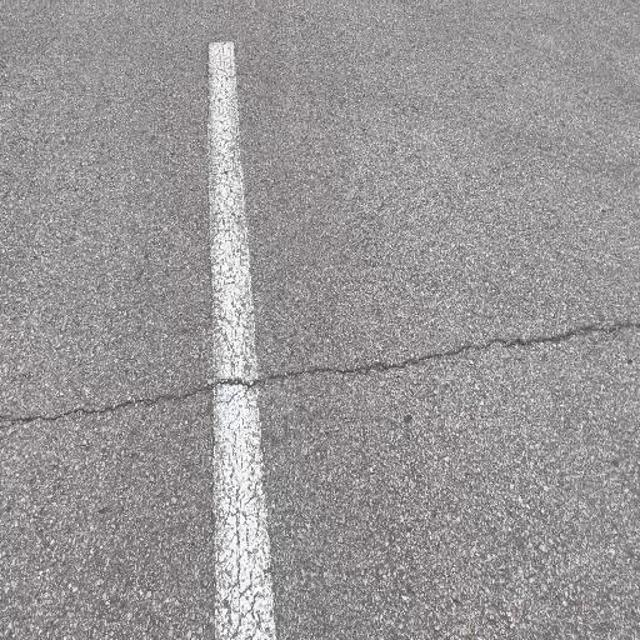Melintang: (0, 306, 640, 446)
